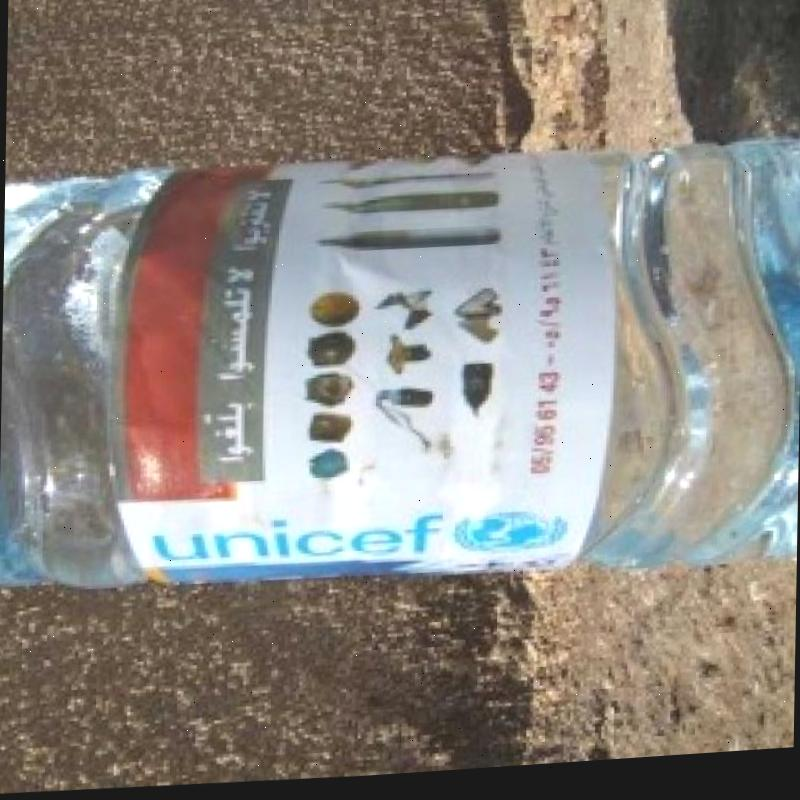botella: (0, 127, 800, 612)
